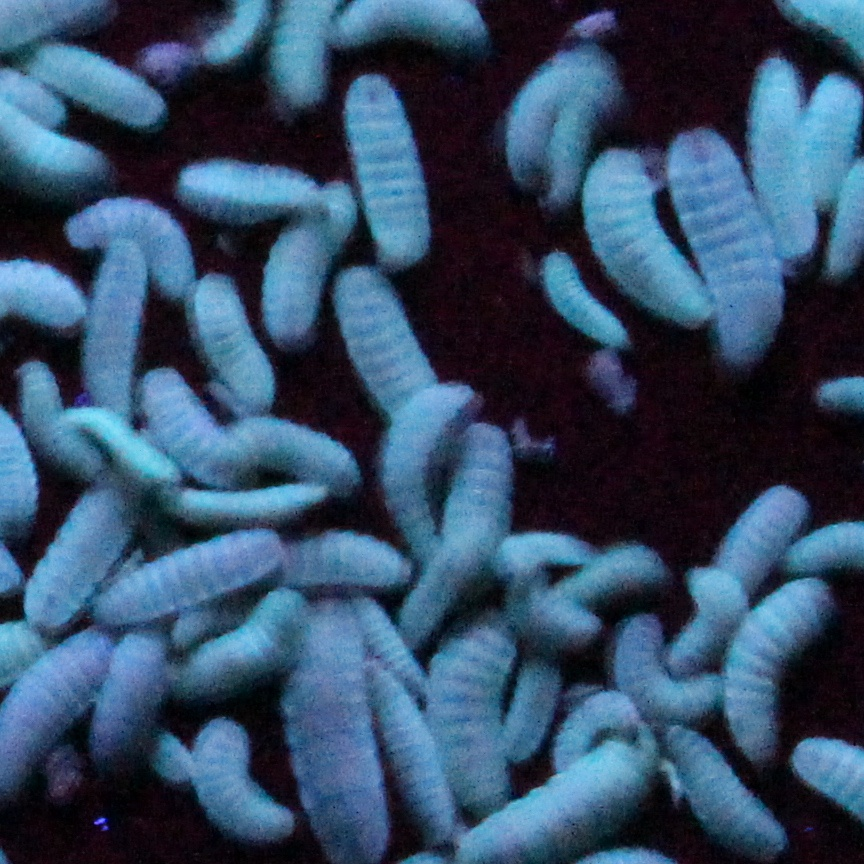larve: (272, 591, 390, 860), (666, 114, 788, 367), (581, 134, 708, 325), (370, 378, 485, 567), (21, 462, 146, 623), (337, 72, 439, 265), (326, 262, 445, 425), (723, 580, 828, 762), (101, 520, 283, 622), (430, 600, 517, 811), (357, 671, 465, 840), (661, 723, 788, 863), (175, 583, 301, 711), (192, 714, 301, 852), (205, 405, 366, 496), (66, 189, 197, 300), (750, 49, 815, 269), (488, 525, 597, 656), (175, 272, 279, 400), (85, 622, 168, 782), (703, 489, 815, 607), (21, 40, 161, 129), (130, 371, 241, 482), (8, 351, 108, 474), (614, 614, 725, 722), (250, 527, 412, 600), (263, 192, 339, 345), (83, 243, 145, 422), (177, 154, 326, 227), (528, 251, 630, 354), (443, 418, 508, 571), (65, 400, 183, 480), (665, 562, 746, 676), (157, 472, 325, 522), (561, 536, 668, 612), (346, 598, 434, 689), (545, 78, 595, 220), (499, 654, 565, 752), (554, 689, 641, 763), (503, 67, 561, 176)
